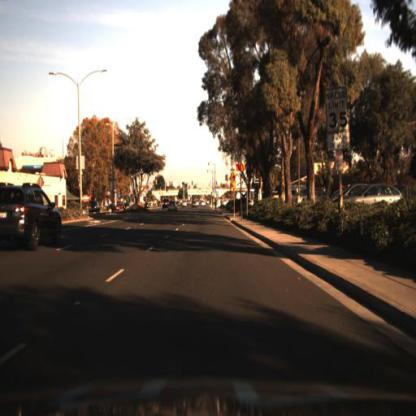car: (0, 174, 66, 254), (88, 196, 102, 218), (86, 199, 102, 216), (168, 196, 179, 212), (167, 197, 177, 213), (160, 198, 170, 210)
